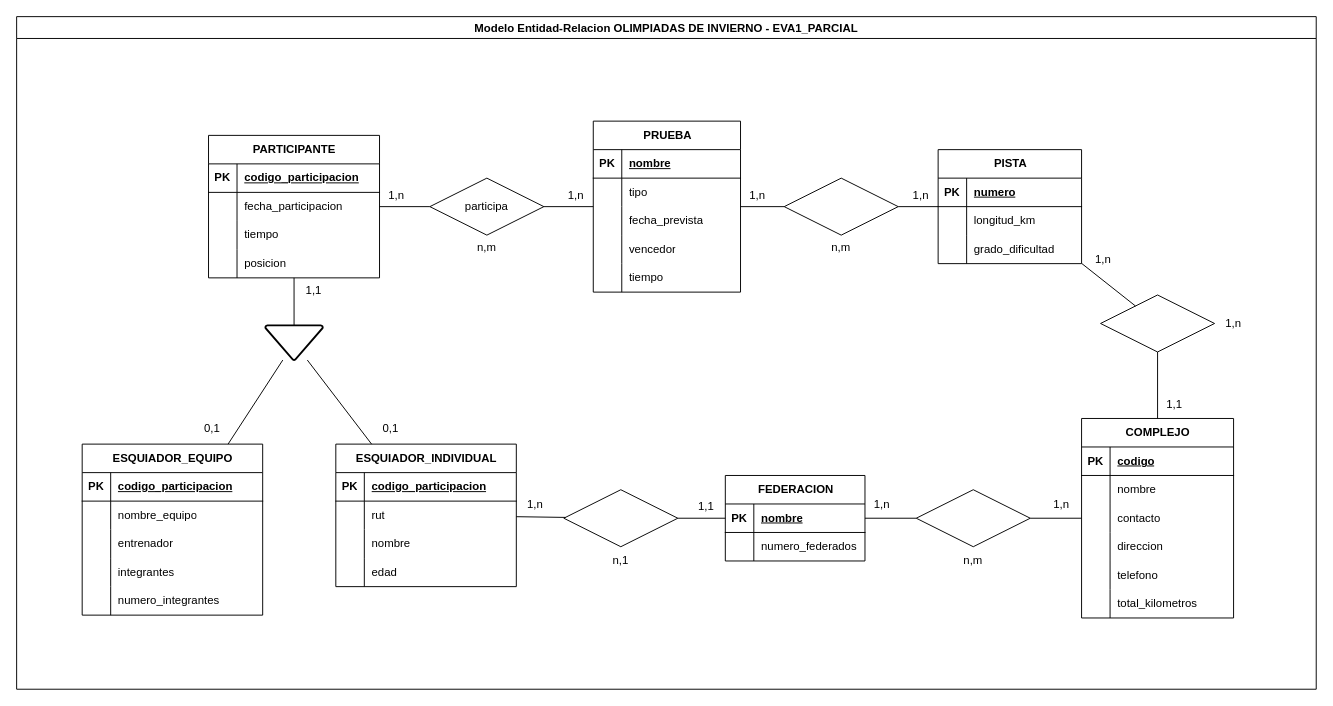
Image size: 1333x706. Some labels were removed from this diagram. Here are the shapes that lost their labels. From the top down, the centre of each, then its label:
At (x=840, y=206): "se_realiza".
At (x=1157, y=323): "dispone".
At (x=620, y=518): "adhiere".
At (x=972, y=518): "administra".
